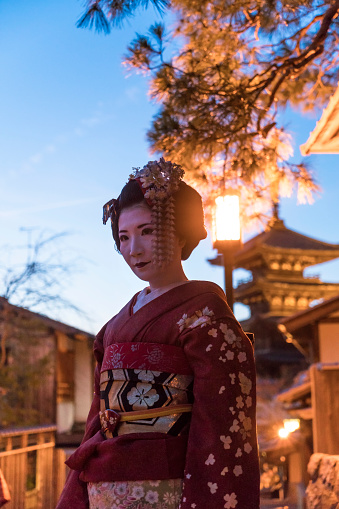em pe: (57, 162, 284, 509)
